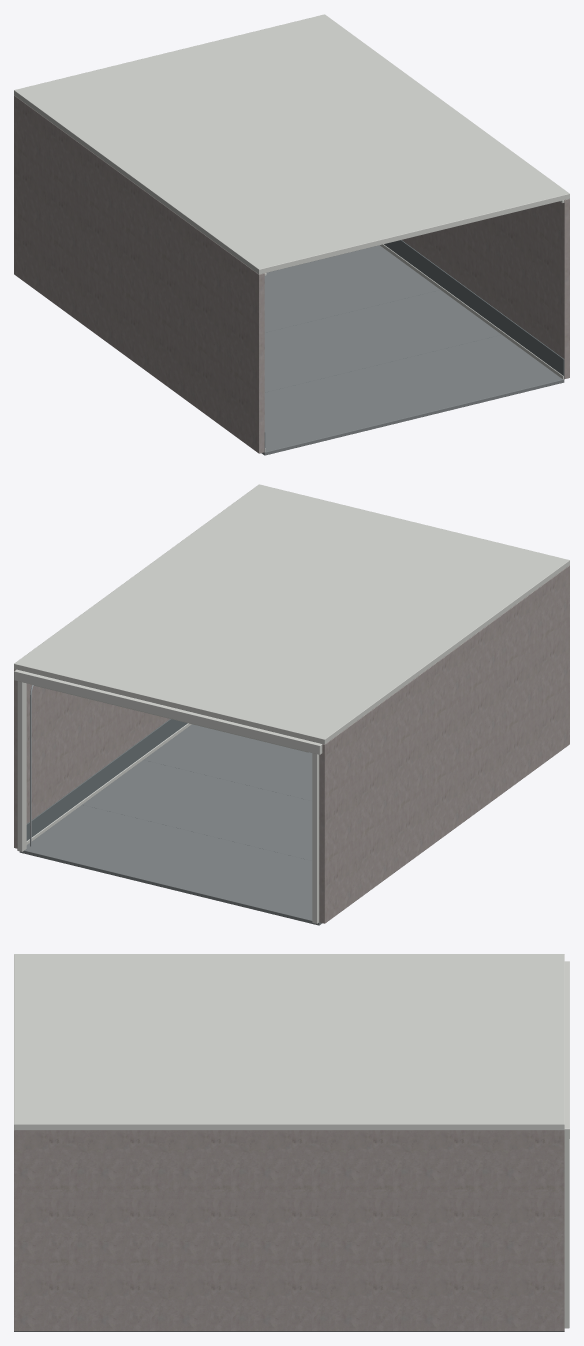
Rendered from garage.glb.
3 views of the same model, one above another, from view 1: azimuth 30°, elevation 25°; view 2: azimuth 150°, elevation 25°; view 3: azimuth 270°, elevation 25° (orthographic). The views are drawn at different scales.
Visible parts, largest first — view 1: Finished flat ceiling, Finished garage wall, Sealed floor, Door opener housing, Cabinet door; view 2: Finished flat ceiling, Finished garage wall, Sealed floor, Cabinet door, Door opener housing; view 3: Finished garage wall, Finished flat ceiling, Cabinet door, Sealed floor.
Part boxes in pixels (bbox=[...]): Finished flat ceiling: bbox=[14, 14, 569, 274]; Finished garage wall: bbox=[14, 95, 569, 453]; Sealed floor: bbox=[261, 245, 564, 455]; Door opener housing: bbox=[264, 240, 564, 451]; Cabinet door: bbox=[264, 200, 564, 451]; Finished flat ceiling: bbox=[14, 484, 569, 744]; Finished garage wall: bbox=[14, 565, 569, 923]; Sealed floor: bbox=[19, 724, 322, 925]; Cabinet door: bbox=[14, 669, 322, 923]; Door opener housing: bbox=[26, 719, 311, 860]; Finished garage wall: bbox=[14, 1130, 564, 1331]; Finished flat ceiling: bbox=[14, 954, 564, 1130]; Cabinet door: bbox=[564, 961, 569, 1328]; Sealed floor: bbox=[14, 1331, 564, 1331].
Size of the model in its own units: 9.96 by 5.74 by 13.73.
7 materials, 1 textured.
